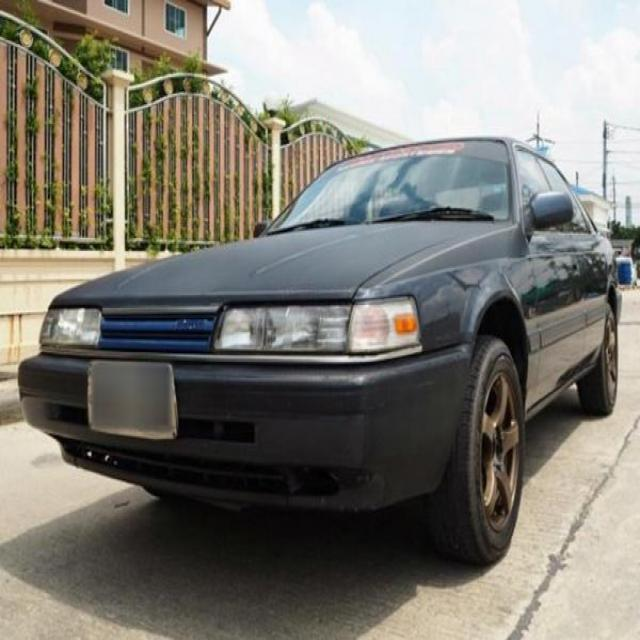back_left_door: (535, 151, 606, 378)
front_bumper: (17, 316, 475, 513)
front_glass: (263, 140, 511, 235)
front_left_door: (512, 143, 582, 410)
front_left_light: (210, 295, 423, 358)
front_right_light: (38, 303, 103, 347)
hood: (48, 217, 481, 317)
left_mirror: (526, 189, 575, 242)
